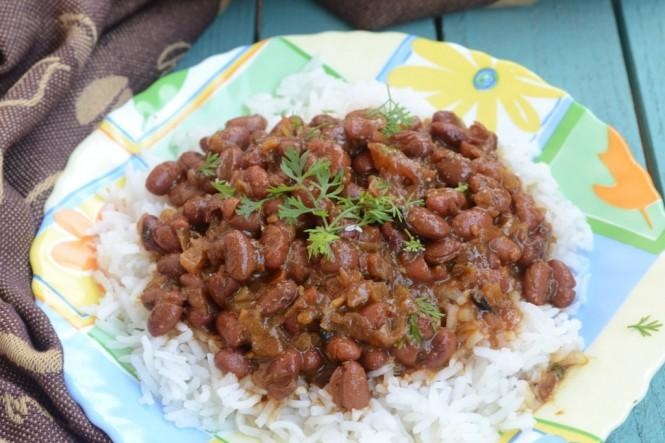rajma: (167, 120, 607, 364)
